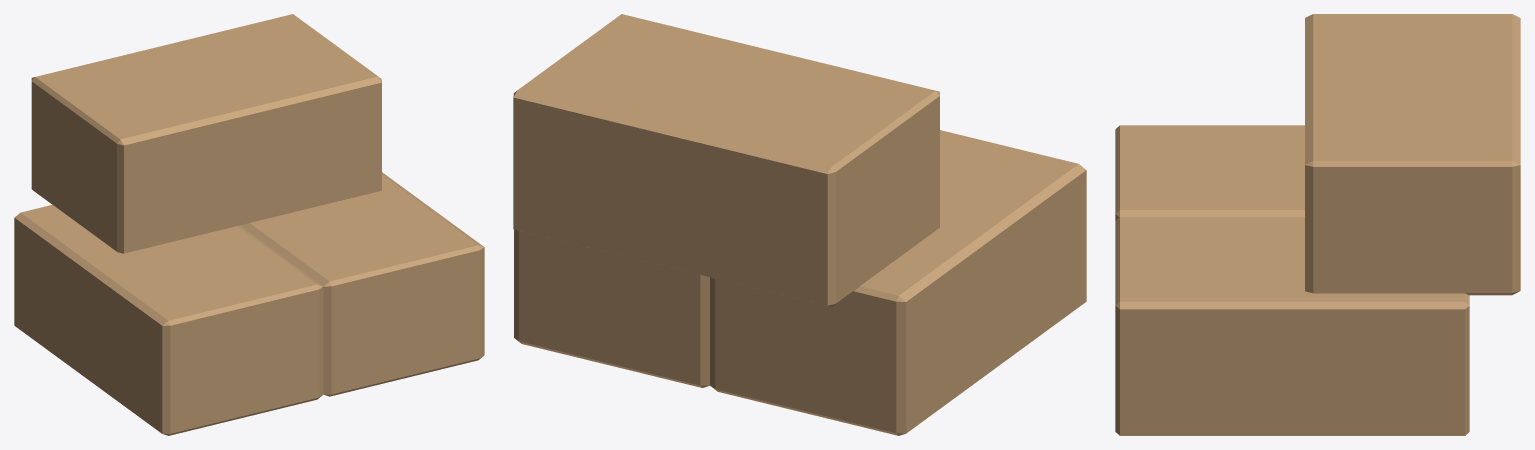
File: Prop_Boxes_A.fbx
3 views of the same model, side by side, from view 1: azimuth 30°, elevation 25°; view 2: azimuth 150°, elevation 25°; view 3: azimuth 270°, elevation 25° (orthographic). The views are drawn at different scales.
Visible parts, largest first — view 1: Prop_Boxes_A; view 2: Prop_Boxes_A; view 3: Prop_Boxes_A.
Boxes of the visible parts, x1,y1,x2,y2 form: Prop_Boxes_A: (14,14,484,435); Prop_Boxes_A: (513,14,1086,435); Prop_Boxes_A: (1115,14,1520,435).
Bounding box in the file's own units: 122 × 131 × 88.34.
